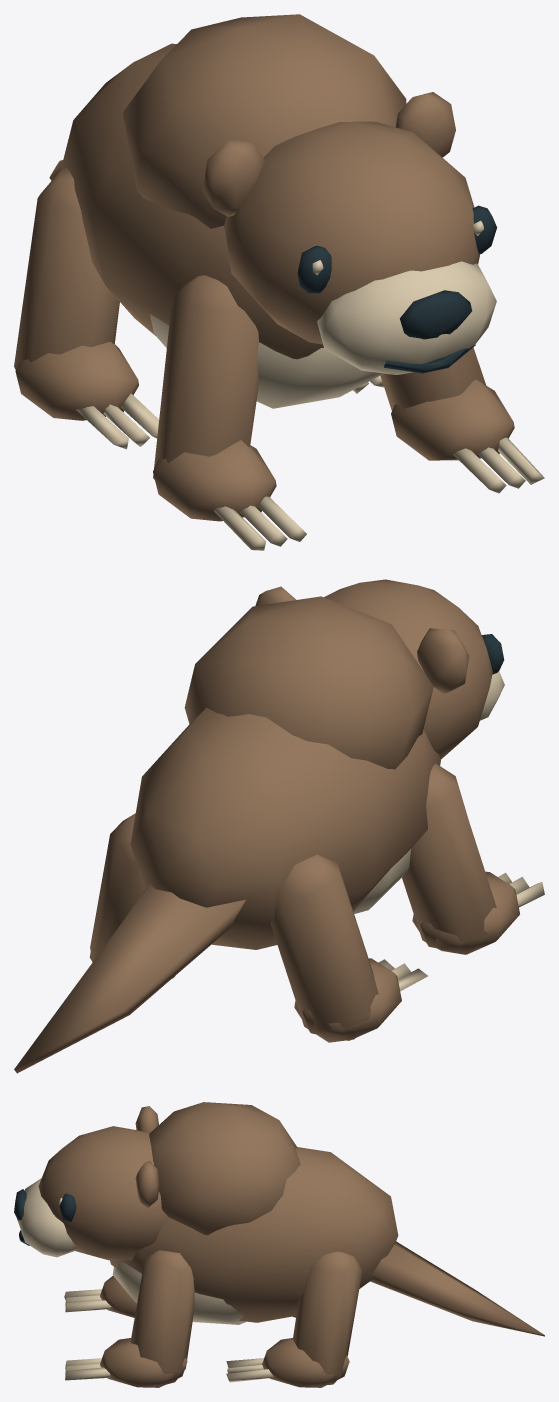
Rendered from org_groundsloth.glb.
The picture shows the model from 3 angles, top to bottom: view 1: azimuth 30°, elevation 25°; view 2: azimuth 150°, elevation 25°; view 3: azimuth 270°, elevation 25°; orthographic projection. The views are drawn at different scales.
Parts seen in each view (by area): view 1: Body, Head, Leg_FL, Leg_BL, Leg_FR, Eye_L, Eye_R; view 2: Body, Leg_BL, Tail, Head, Leg_FL, Leg_BR; view 3: Body, Head, Leg_FR, Leg_BR, Tail, Leg_FL, Eye_R.
Boxes of the visible parts, bbox=[...] form: Body: bbox=[61, 14, 406, 408]; Head: bbox=[203, 92, 496, 374]; Leg_FL: bbox=[153, 275, 306, 550]; Leg_BL: bbox=[14, 167, 158, 449]; Leg_FR: bbox=[380, 347, 544, 493]; Eye_L: bbox=[297, 245, 331, 293]; Eye_R: bbox=[472, 205, 496, 253]; Body: bbox=[130, 596, 440, 949]; Leg_BL: bbox=[270, 854, 427, 1042]; Tail: bbox=[14, 884, 245, 1073]; Head: bbox=[255, 579, 504, 759]; Leg_FL: bbox=[402, 763, 544, 954]; Leg_BR: bbox=[89, 813, 174, 978]; Body: bbox=[110, 1102, 398, 1324]; Head: bbox=[14, 1106, 168, 1260]; Leg_FR: bbox=[65, 1250, 194, 1387]; Leg_BR: bbox=[226, 1251, 362, 1387]; Tail: bbox=[370, 1241, 544, 1336]; Leg_FL: bbox=[64, 1276, 136, 1317]; Eye_R: bbox=[58, 1193, 76, 1221].
Bounding box in the file's own units: 1.58 × 1.8 × 3.63.
